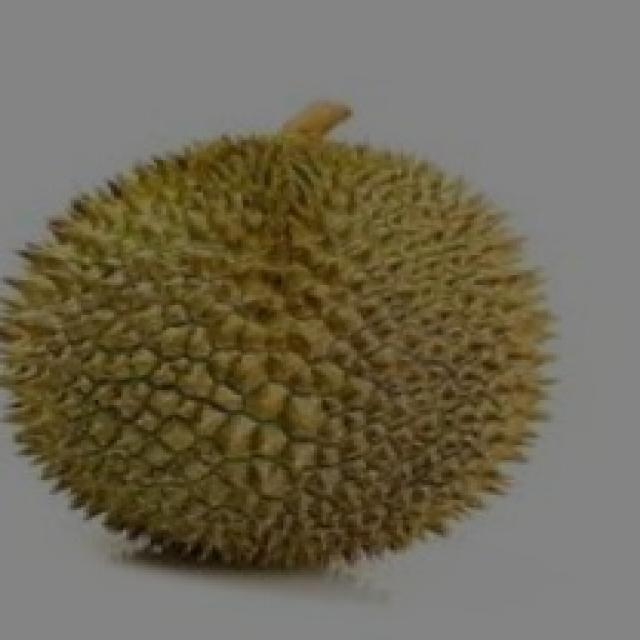fruit: (249, 250, 625, 620), (0, 238, 360, 618)
